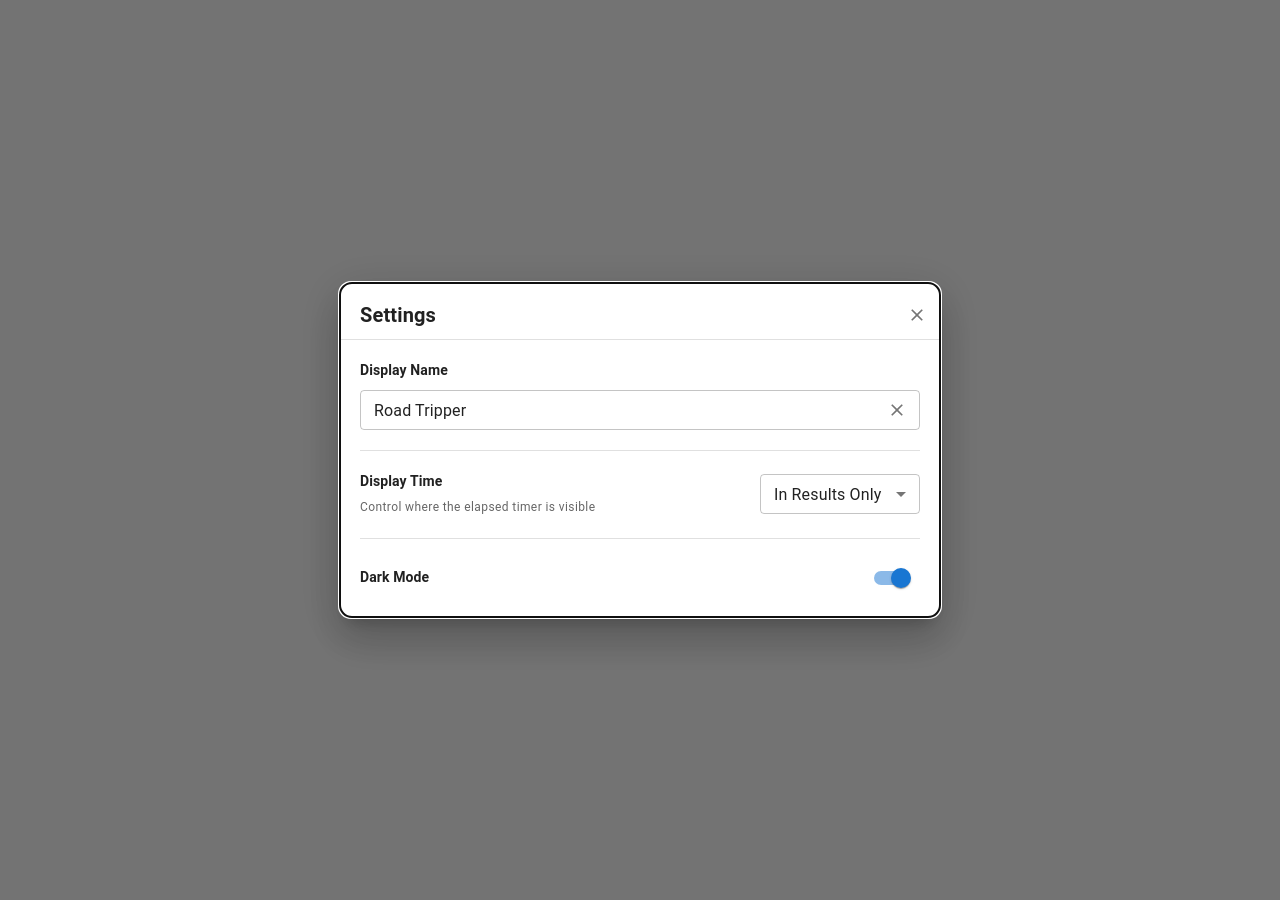
Test: SettingsModal Component › display name input › end adornments › shows the clear button when input has text and clears text when clicked
Click the button named "clear display name" at (897, 410), box [885, 398, 909, 422]
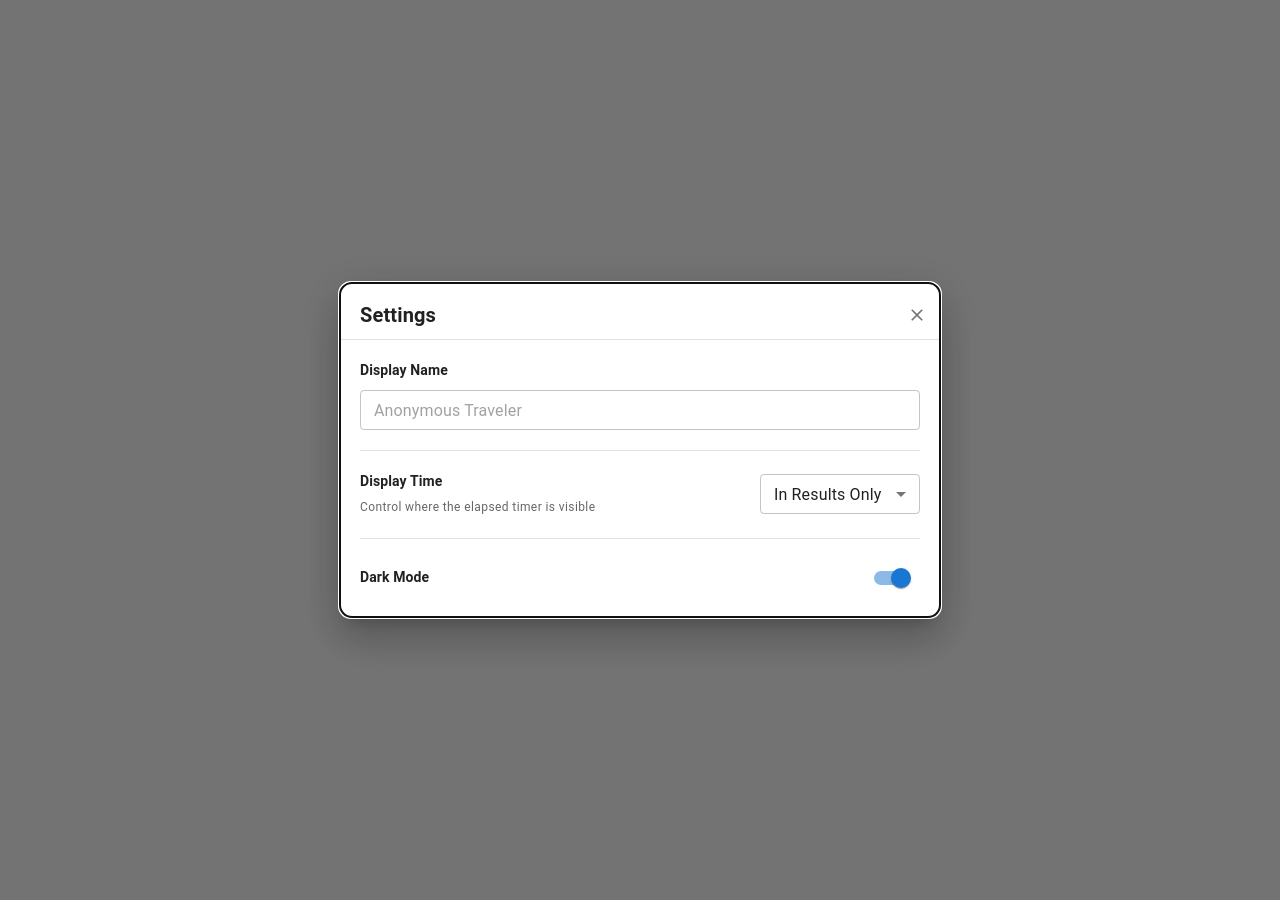
expect the field is empty: met, box [360, 390, 920, 430]
